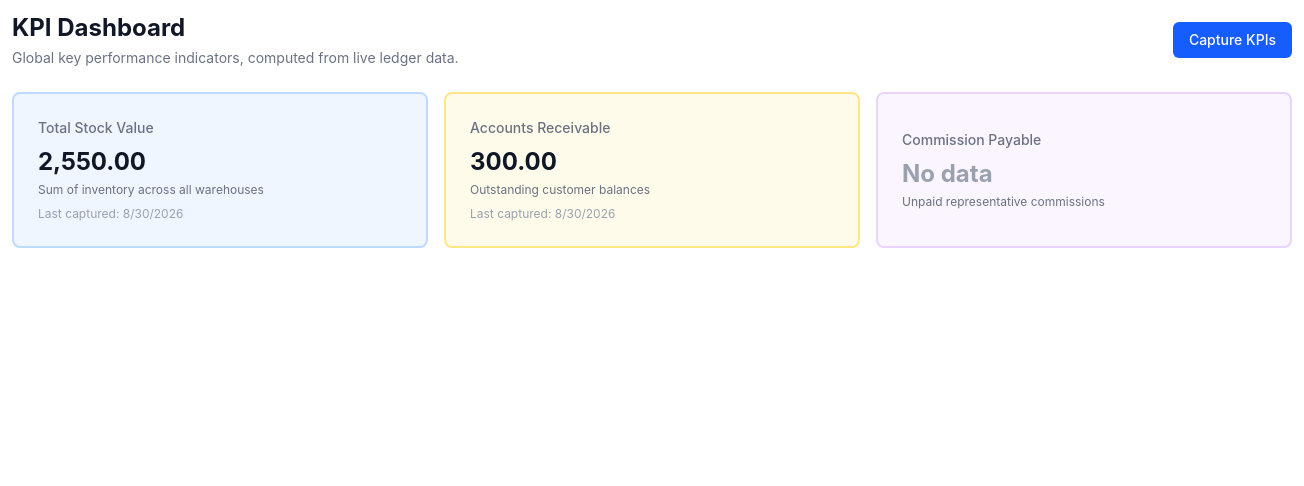
KpiDashboardPage › shows history panel when a card is clicked
# Click the Total Stock Value card
Click the heading "Total Stock Value": (96, 128) [38,119,154,136]
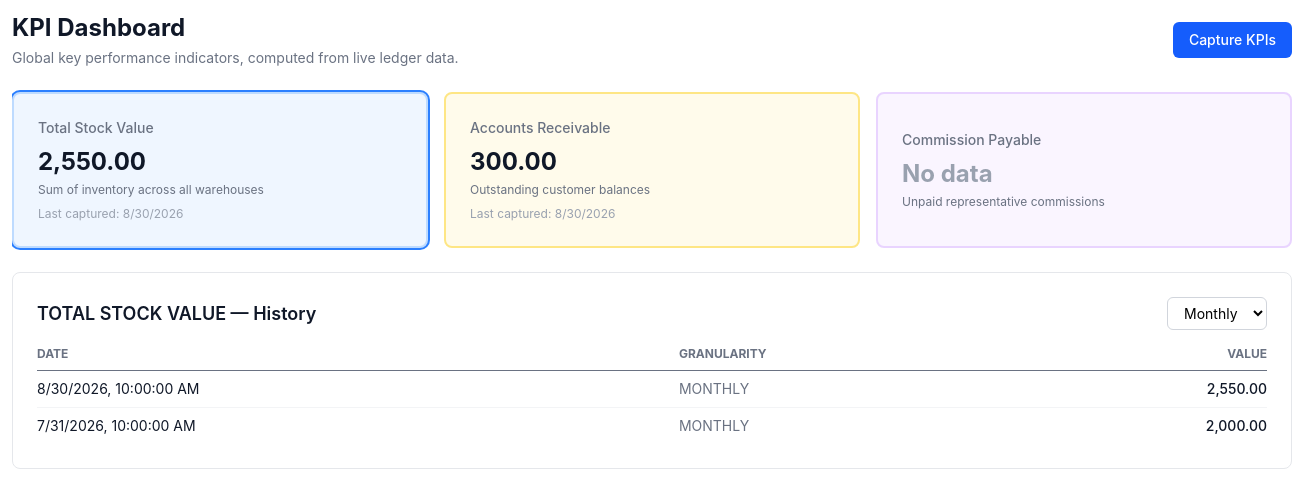
Expected: the heading "TOTAL STOCK VALUE — History" is shown, [37,300,316,328]
